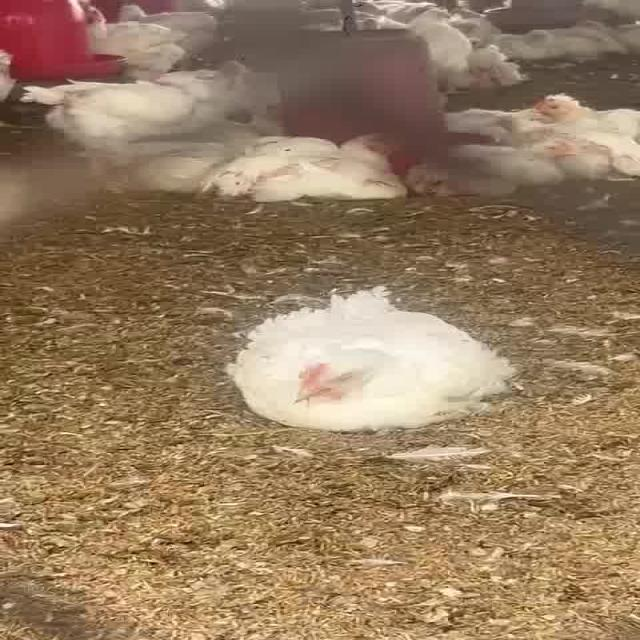AbNormal: (242, 295, 511, 430), (202, 130, 418, 202), (424, 138, 590, 193), (529, 90, 633, 133)
